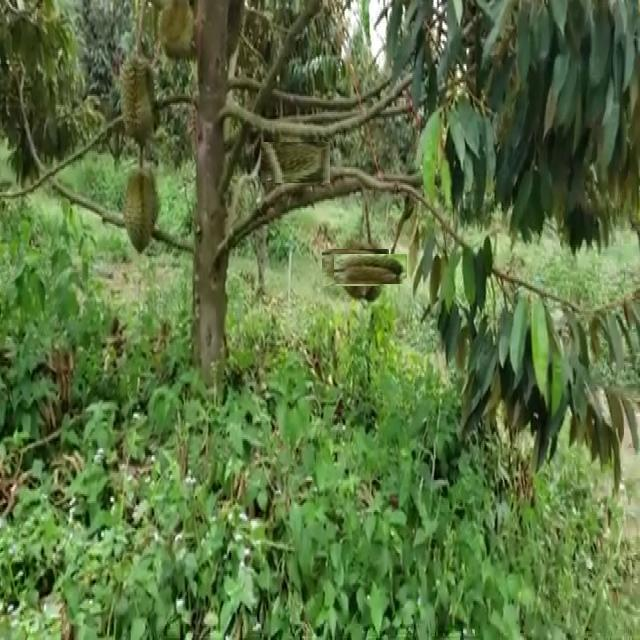durian: (117, 44, 162, 154), (120, 163, 163, 258), (267, 135, 323, 190), (329, 242, 382, 294), (345, 243, 397, 295)
